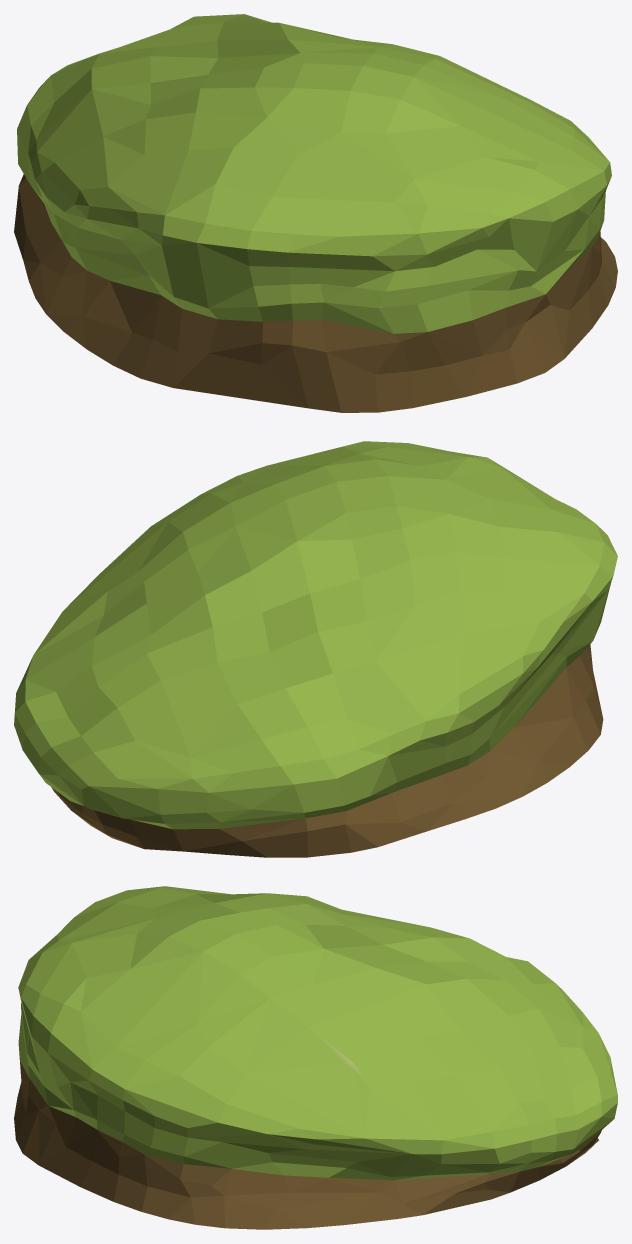
Rendered from grass hill3.fbx.
The picture shows the model from 3 angles, top to bottom: view 1: azimuth 30°, elevation 25°; view 2: azimuth 150°, elevation 25°; view 3: azimuth 270°, elevation 25°; orthographic projection. The views are drawn at different scales.
Parts seen in each view (by area): view 1: grasshill5_LOD0; view 2: grasshill5_LOD0; view 3: grasshill5_LOD0.
Part boxes in pixels (bbox=[...]): grasshill5_LOD0: bbox=[14, 14, 617, 412]; grasshill5_LOD0: bbox=[14, 441, 617, 857]; grasshill5_LOD0: bbox=[14, 886, 617, 1229].
Size of what is drawn, in the model's own units: 41.98 by 18.78 by 51.18.
